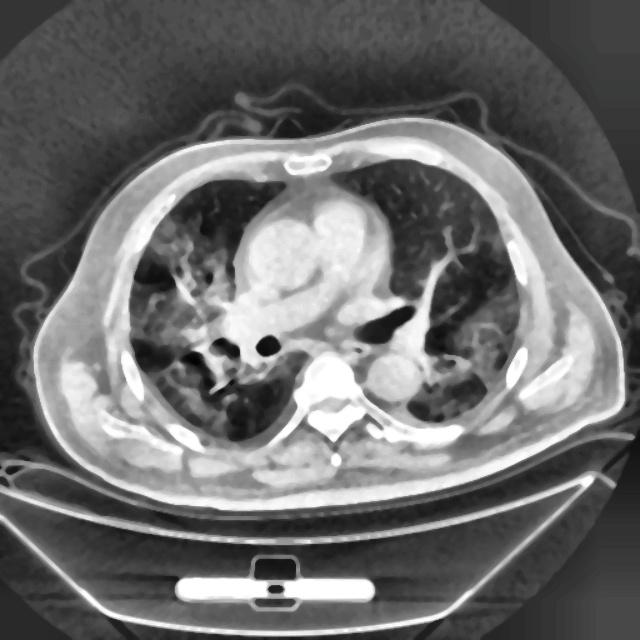covid: (29, 105, 628, 516)
